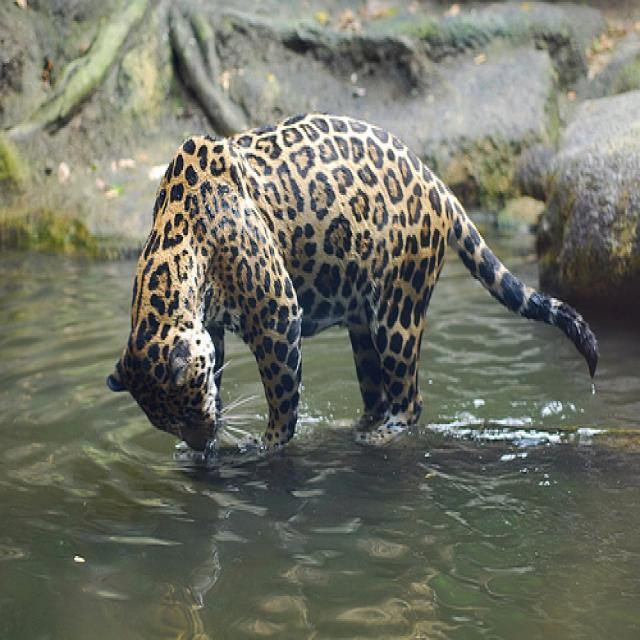Leopard: (102, 105, 599, 462)
